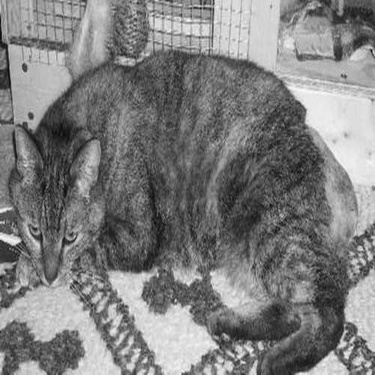cat: (1, 37, 372, 374)
